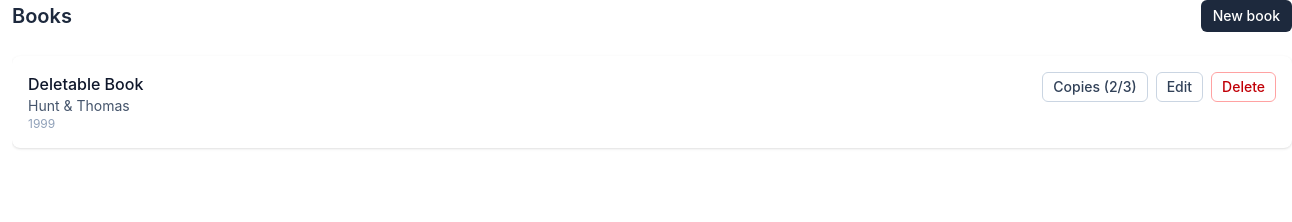
Test: BooksList — role-gated management › surfaces the has-copies conflict and keeps the book when delete fails
Click the button "Delete" at coordinates (1244, 87), box 1211,72 -> 1276,102
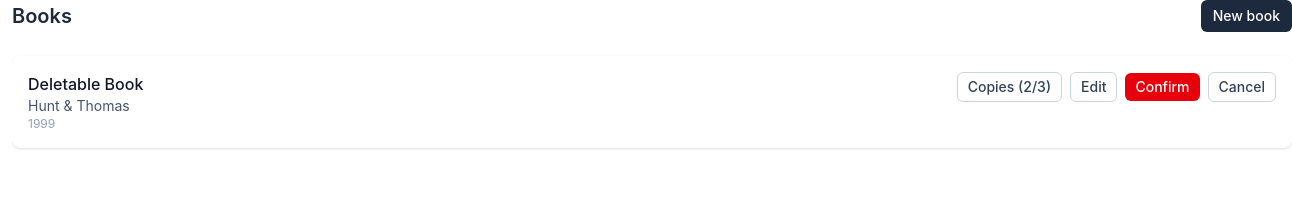
Click the button "Confirm" at coordinates (1163, 87), box 1126,73 -> 1200,101
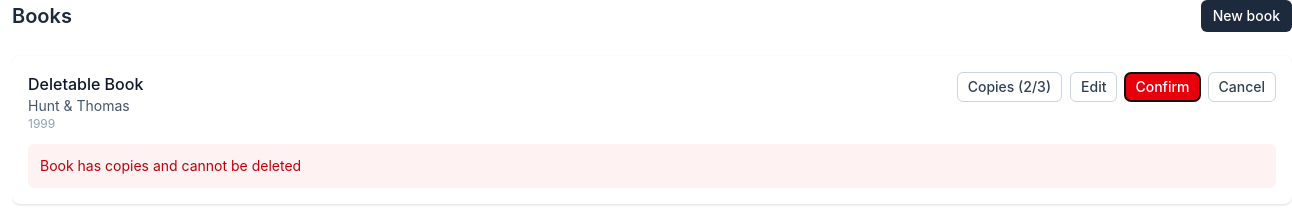
Check: the text "Deletable Book" is shown, box 28,72 -> 143,96
Check: the message reads "Book has copies and cannot be deleted", box 40,157 -> 301,174
